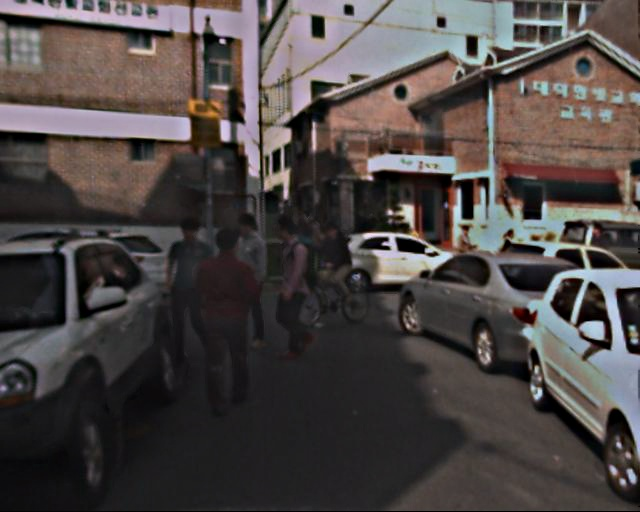person: (190, 227, 264, 413), (262, 214, 321, 358), (160, 219, 220, 360), (221, 216, 277, 350), (316, 223, 355, 311), (453, 224, 479, 288), (587, 223, 612, 283), (495, 227, 519, 286)
